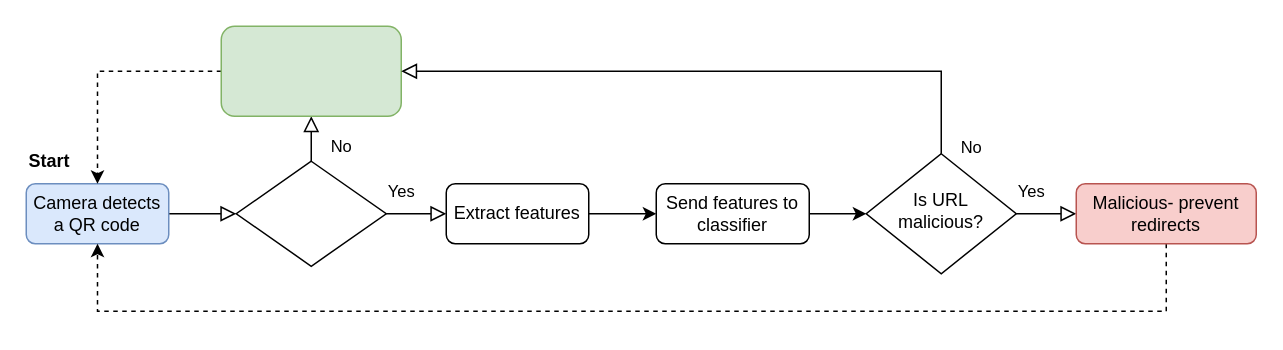
This 1283x350 diagram has some shape labels left out. The shapes that lost their labels are listed below. From the top down, each one's centre as x and y in pixels, then its label:
At [310,70]: "Benign - display data (+ allow redirects if URL)".
At [310,213]: "Is it a URL?".
